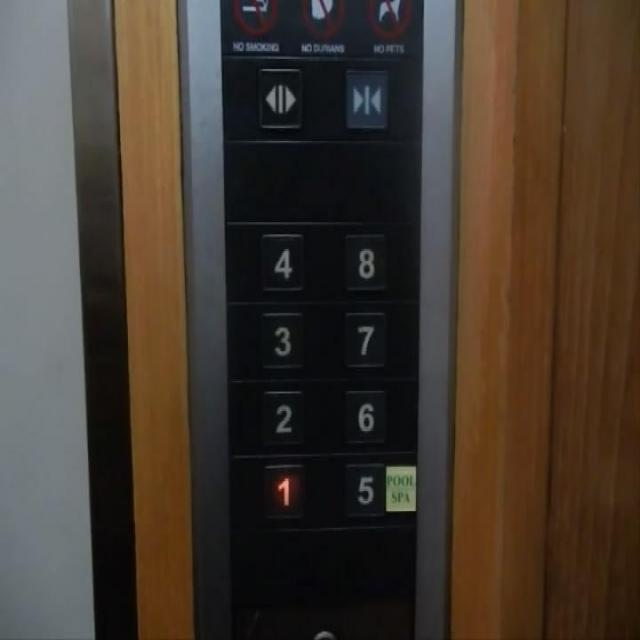1: (260, 461, 308, 520)
2: (259, 388, 304, 444)
3: (258, 309, 304, 367)
4: (256, 229, 306, 291)
5: (340, 459, 384, 513)
6: (341, 387, 385, 442)
7: (339, 309, 388, 368)
8: (341, 230, 388, 292)
close: (342, 66, 389, 130)
open: (255, 65, 303, 129)
